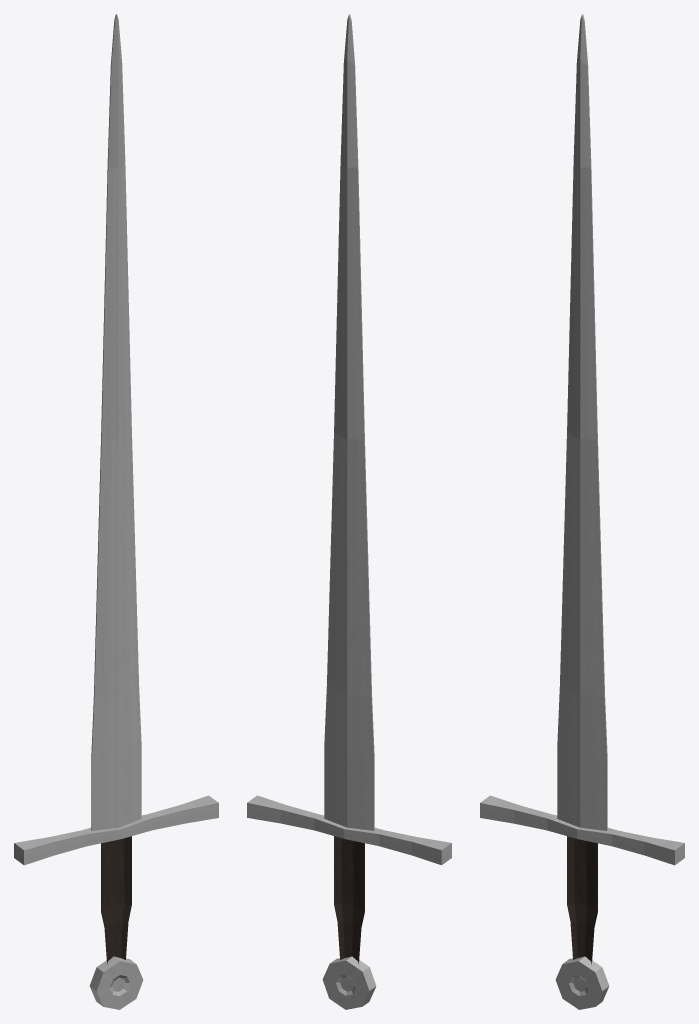
The model's file is Sword-2.glb.
3 renders of one model, left to right at view 1: azimuth 30°, elevation 25°; view 2: azimuth 150°, elevation 25°; view 3: azimuth 330°, elevation 25°, orthographic.
Parts seen in each view (by area): view 1: Sword; view 2: Sword; view 3: Sword.
Boxes of the visible parts, box(x1,y1,x2,y2) form: Sword: box(14, 14, 218, 1009); Sword: box(247, 14, 451, 1009); Sword: box(480, 14, 684, 1009).
Bounding box in the file's own units: 0.2883 × 1.4 × 0.026.
Materials: 2 (2 with a texture image).
